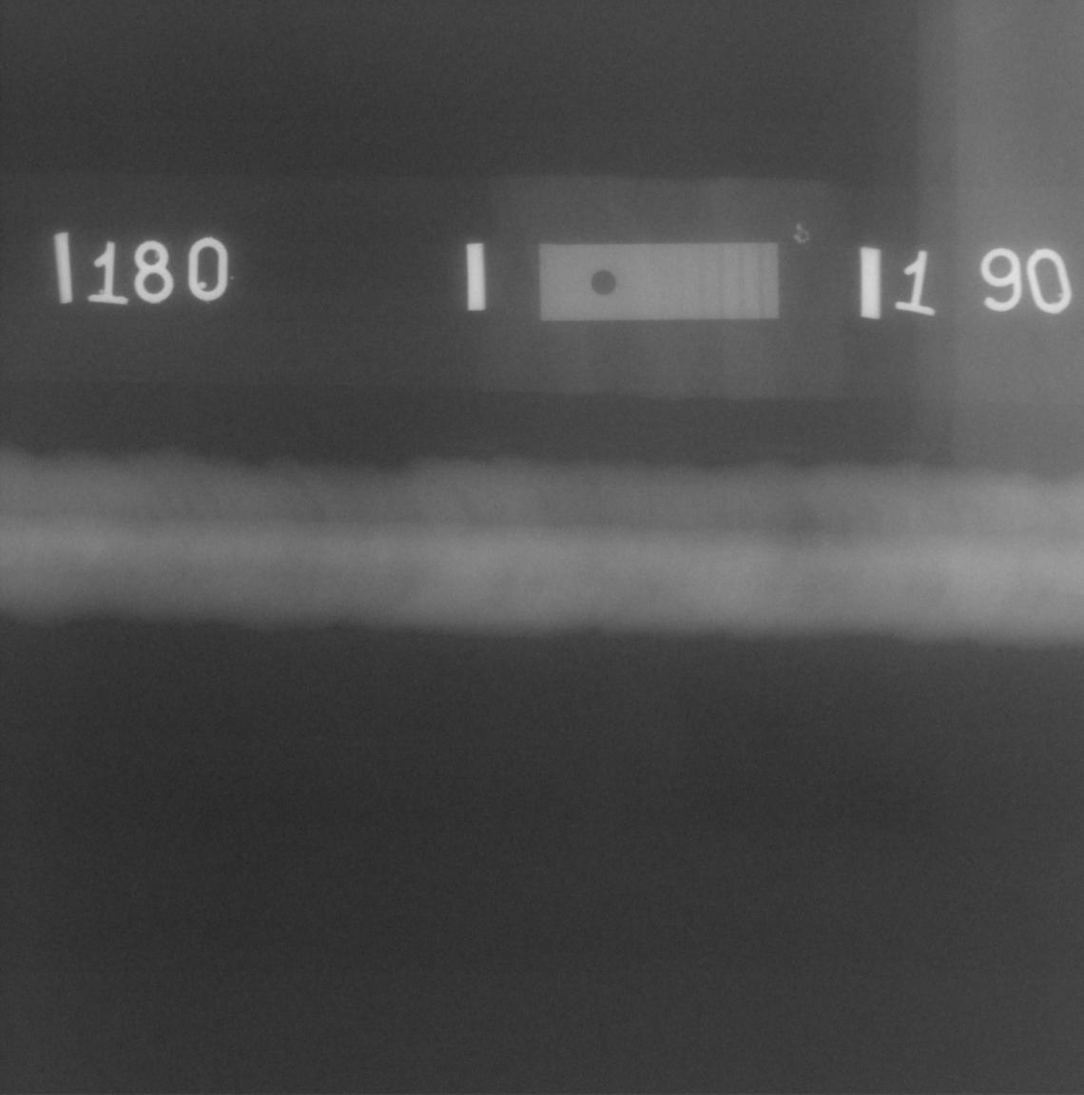Pore/Porosity: (493, 573, 497, 577)
Reference Standard 1: (540, 242, 778, 320)
